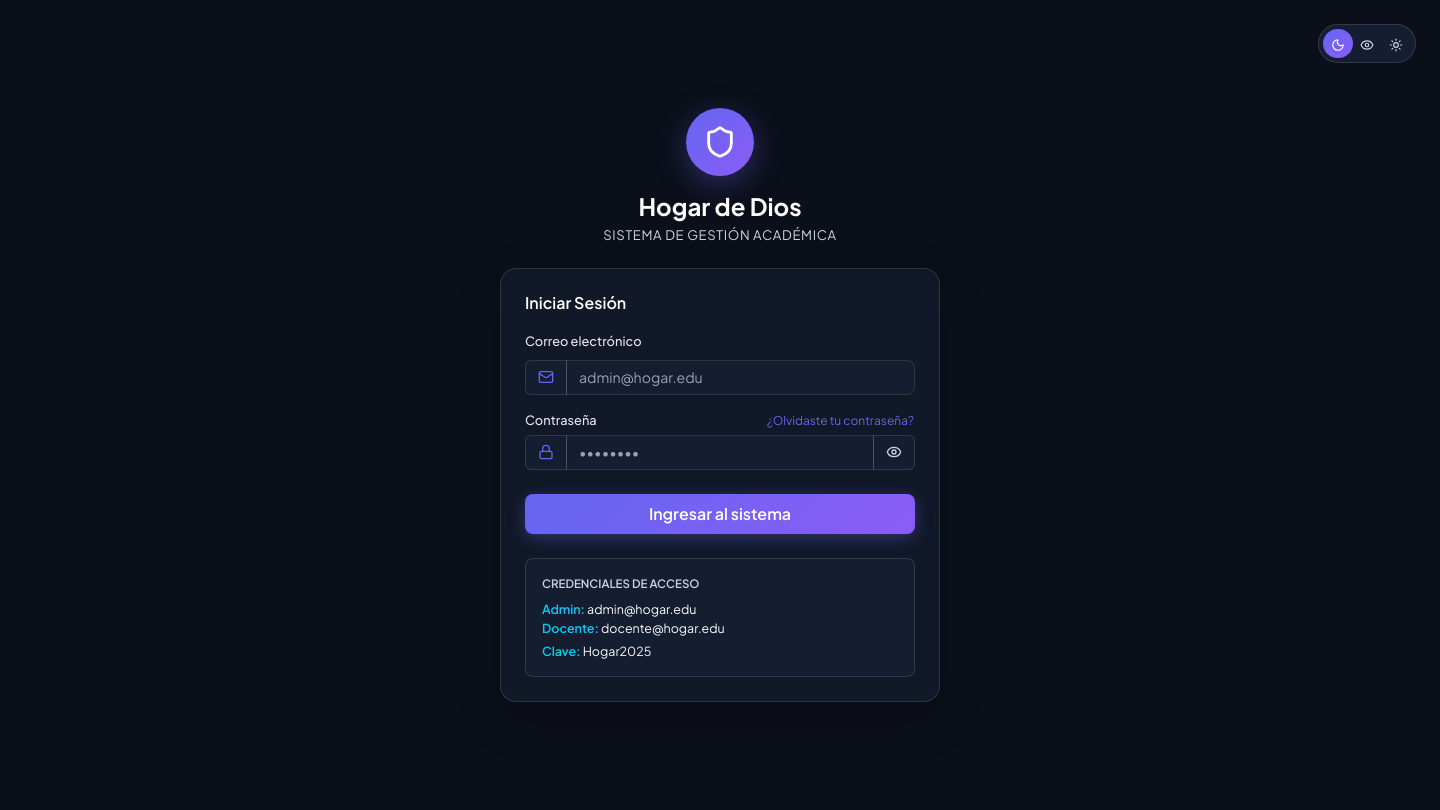
Scenario: Integración: Formulario de Login › debe mostrar el botón de recuperación de contraseña y abrir el modal modal al hacer clic
Click the button "¿Olvidaste tu contraseña?" at (840, 421), box [766,411,915,431]
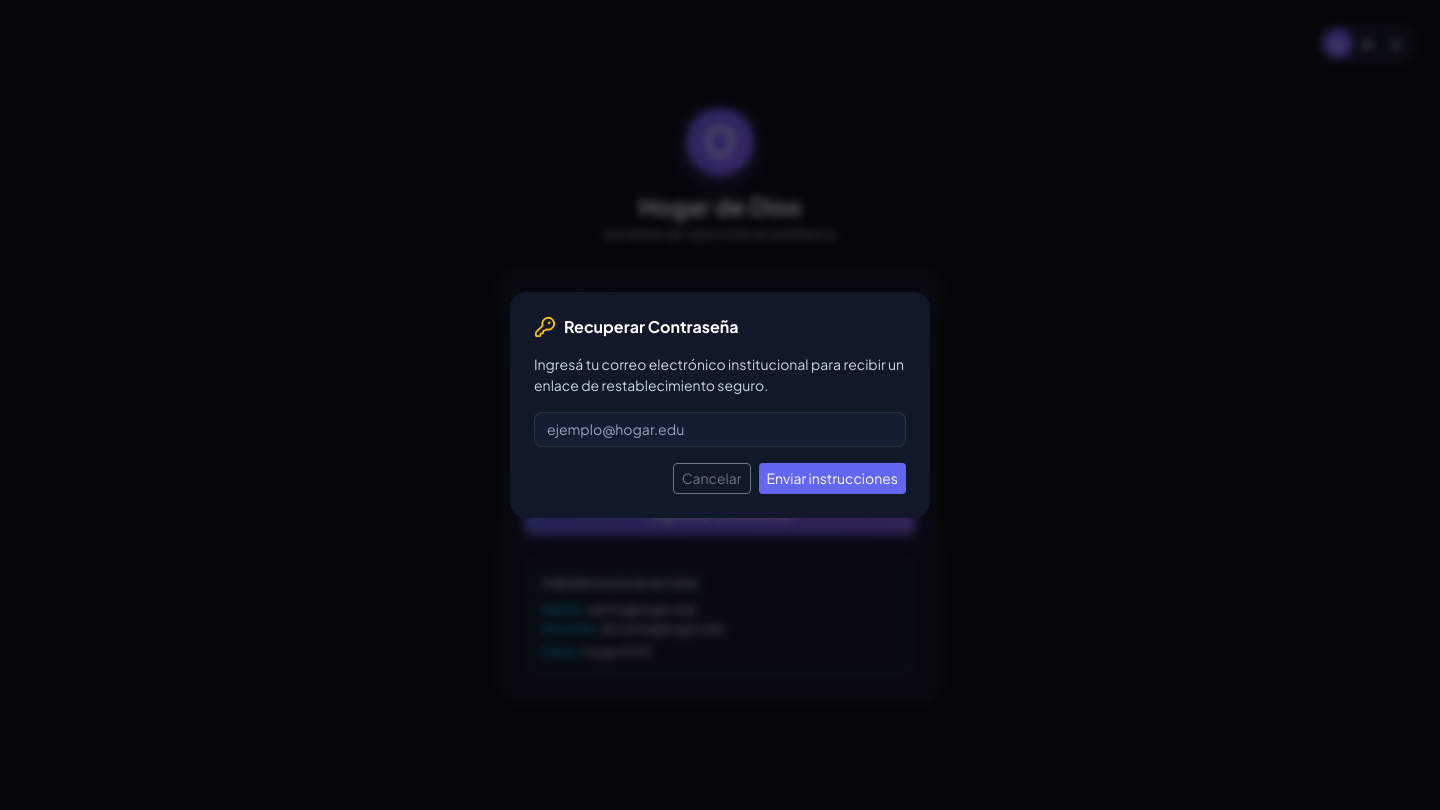
Expected: the heading "Recuperar Contraseña" is shown, [564,317,738,336]
Expected: the field with placeholder "ejemplo@hogar.edu" is shown, [534,412,906,447]
